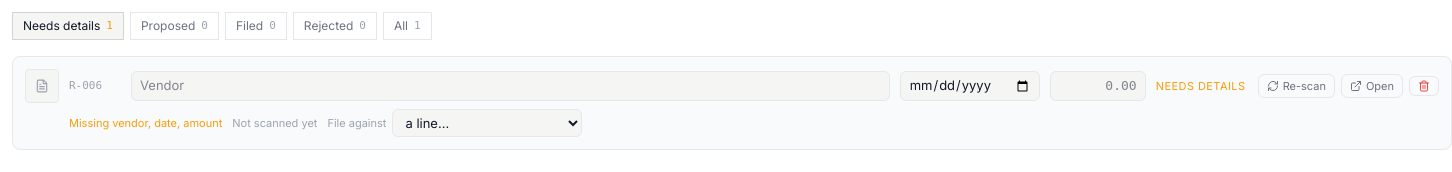
Test: RCP-20 — filing goes through the transaction path › refuses to file a receipt with no amount instead of filing a zero
The width and height of the screenshot is (1452, 172).
Select "Travel · Bus fuel — Nov" in the dropdown with test id "receipt-link-line" at (487, 123), box [392, 109, 582, 137]
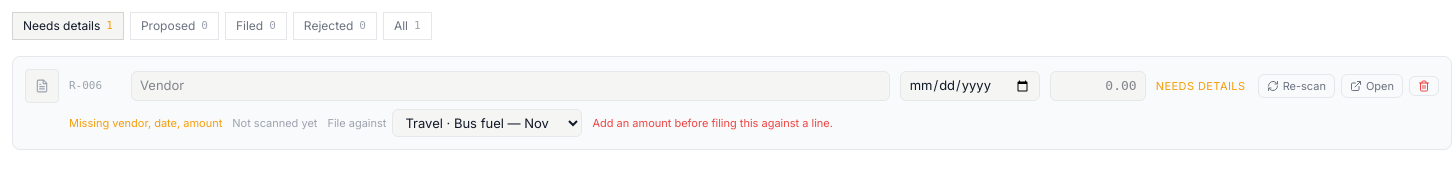
Check: the message shows "Add an amount", box [592, 116, 833, 130]
